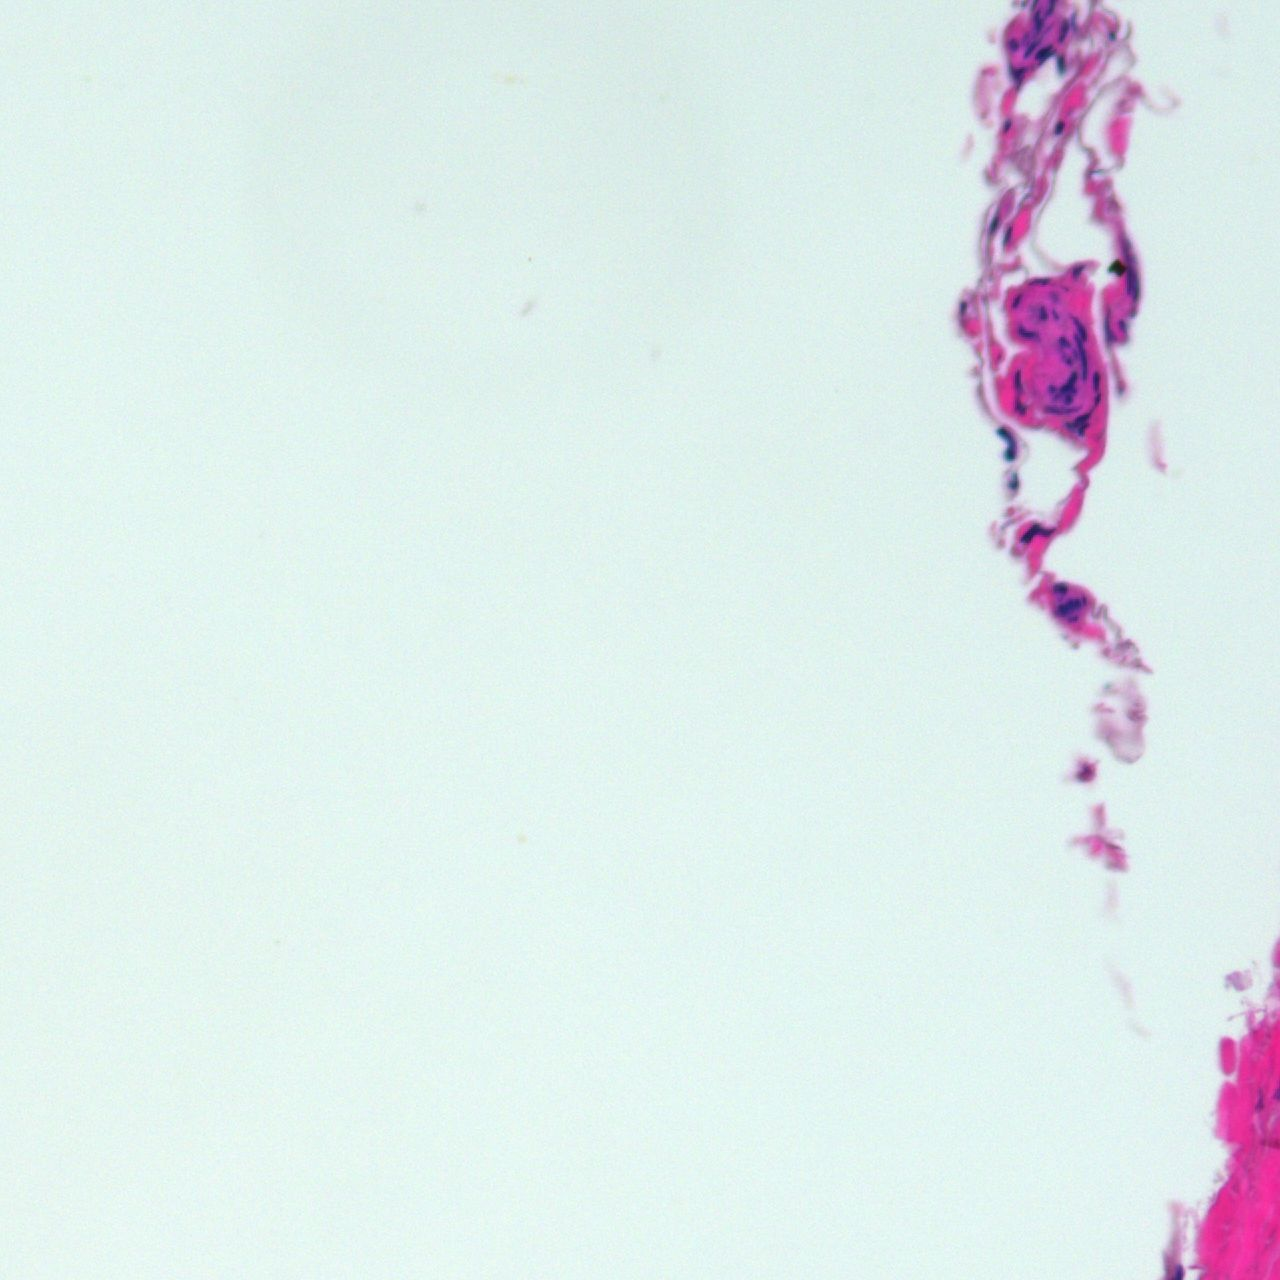dust: (1107, 258, 1125, 275)
nucleus-HE: (1051, 591, 1090, 620), (993, 424, 1022, 462), (1055, 369, 1084, 406), (1019, 519, 1057, 545), (1074, 334, 1091, 381), (1068, 311, 1091, 341), (1121, 233, 1139, 267), (1032, 41, 1056, 64), (1064, 410, 1090, 430), (1009, 62, 1024, 91), (1126, 268, 1139, 300), (986, 213, 1003, 234), (1043, 403, 1082, 413), (1021, 40, 1040, 59), (999, 225, 1015, 246), (1074, 420, 1092, 437), (1058, 18, 1069, 42), (1014, 369, 1024, 393), (1092, 372, 1099, 406), (1055, 54, 1065, 76), (1033, 8, 1043, 30), (1009, 293, 1023, 309), (1017, 324, 1034, 338), (1065, 611, 1082, 624), (1014, 399, 1024, 416), (1024, 278, 1050, 285), (1053, 583, 1069, 593), (1255, 1088, 1262, 1111), (1073, 265, 1082, 282), (1008, 471, 1017, 489), (1039, 305, 1048, 320), (1057, 336, 1071, 346), (1055, 120, 1064, 132), (959, 301, 967, 315), (1118, 318, 1126, 332), (1070, 11, 1076, 29), (1008, 39, 1017, 50), (1003, 120, 1010, 132), (1108, 30, 1116, 40), (1048, 383, 1056, 393)
